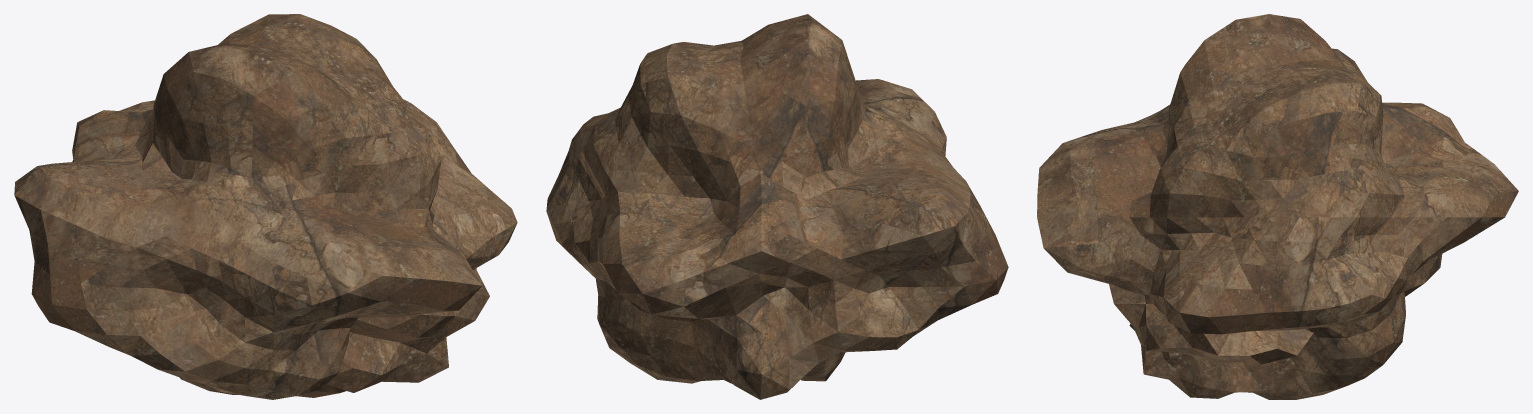
Rendered from boulder.glb.
The picture shows the model from 3 angles, left to right: view 1: azimuth 30°, elevation 25°; view 2: azimuth 150°, elevation 25°; view 3: azimuth 270°, elevation 25°; orthographic projection. The views are drawn at different scales.
Parts seen in each view (by area): view 1: Boulder; view 2: Boulder; view 3: Boulder.
Boxes of the visible parts, left/top/right/bottom form: Boulder: left=14, top=14, right=517, bottom=399; Boulder: left=546, top=14, right=1008, bottom=399; Boulder: left=1037, top=14, right=1518, bottom=399.
Bounding box in the file's own units: 3.3 × 2.45 × 3.31.
1 material, 1 textured.
